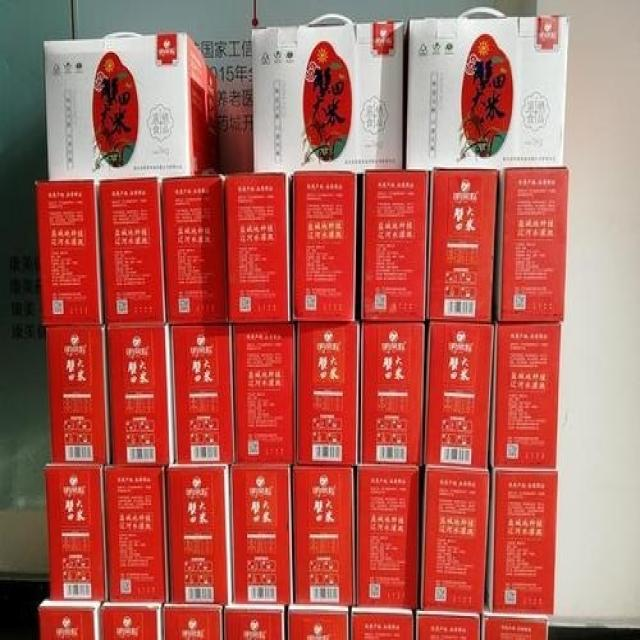box: (43, 34, 221, 181), (403, 16, 567, 172), (251, 21, 405, 175), (496, 167, 569, 323), (426, 170, 498, 324), (360, 171, 432, 322), (418, 469, 489, 612), (98, 179, 168, 324), (423, 323, 492, 469), (491, 324, 560, 469), (293, 174, 361, 321), (162, 177, 230, 324), (489, 471, 557, 614), (107, 324, 174, 466), (293, 325, 359, 467), (359, 324, 425, 466), (226, 177, 291, 321), (38, 179, 101, 327), (43, 326, 110, 465), (292, 467, 356, 609), (355, 467, 419, 609), (168, 465, 231, 606), (230, 465, 293, 606), (231, 322, 293, 465), (44, 461, 106, 603), (106, 465, 169, 604), (169, 324, 232, 462), (41, 593, 100, 638), (164, 602, 224, 638), (100, 603, 163, 637), (285, 607, 350, 638), (351, 607, 415, 638), (225, 606, 285, 638), (417, 612, 482, 638), (483, 615, 547, 638)
